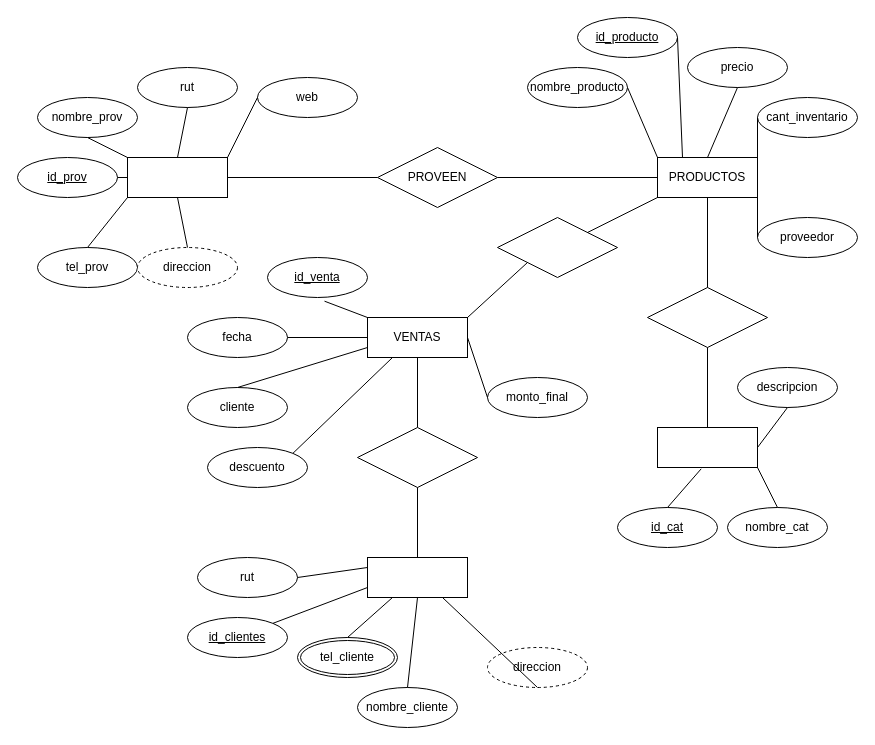
The diagram is 875 pixels wide and 745 high, and some of its shapes have lost their labels. The shapes that lost their labels are listed below. From the top down, each one's box as (x1, y1, x2, y2) in pixels, then its label:
(126, 156, 228, 198): PROVEEDORES
(496, 216, 618, 278): CONTIENEN
(646, 286, 768, 348): CLASIFICA
(356, 426, 478, 488): REALIZAN
(656, 426, 758, 468): CATEGORIA
(366, 556, 468, 598): CLIENTES
